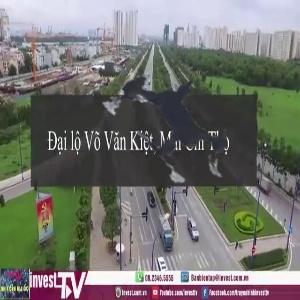drone: (74, 20, 283, 229)
